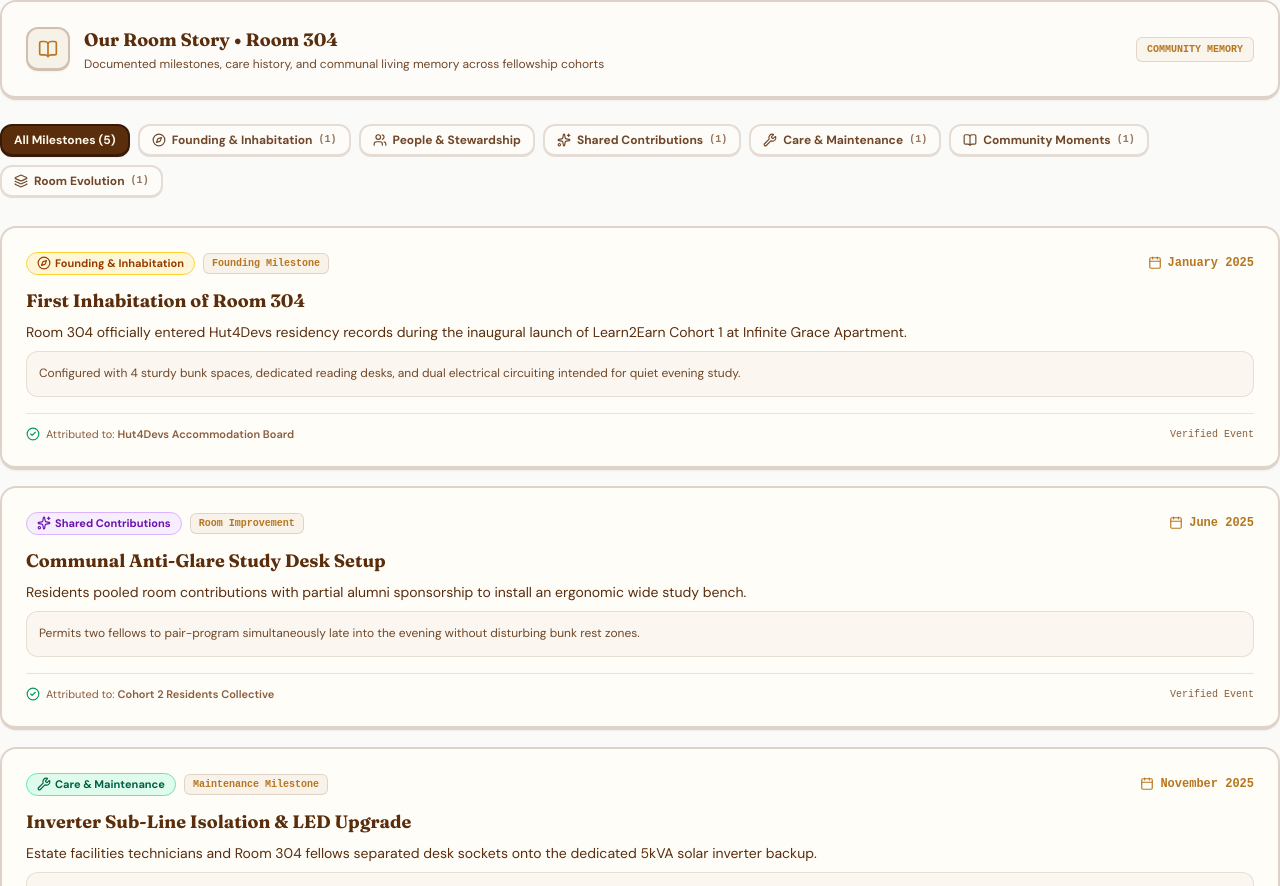
Test: 🛖 Shared Room Experience & Belonging Hub › renders Room Story facts with category filter
Expected: the heading "Our Room Story • Room 304" is shown, [84,28,338,51]
Expected: the heading "First Inhabitation of Room 304" is shown, [26,288,305,312]
// Filter by Community Moments
Click the button "Community Moments (1)" at (1049, 140), box [949,124,1149,157]
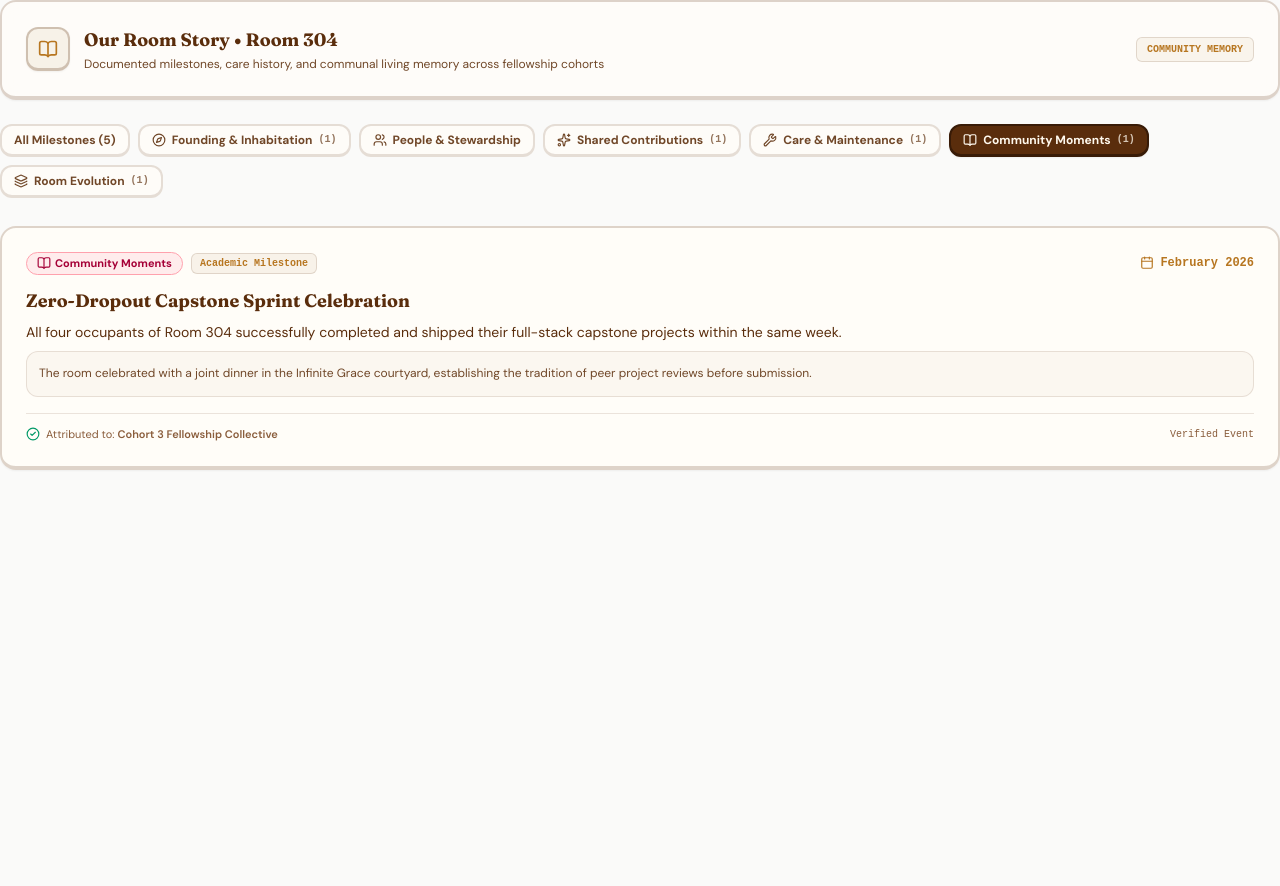
Expected: the heading "Zero-Dropout Capstone Sprint Celebration" is shown, [26,288,410,312]
Expected: the heading "First Inhabitation of Room 304" is gone
